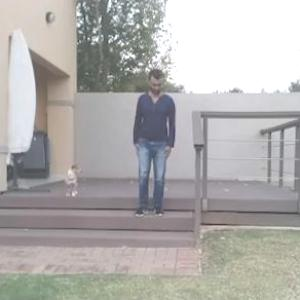follow: (134, 64, 176, 227)
